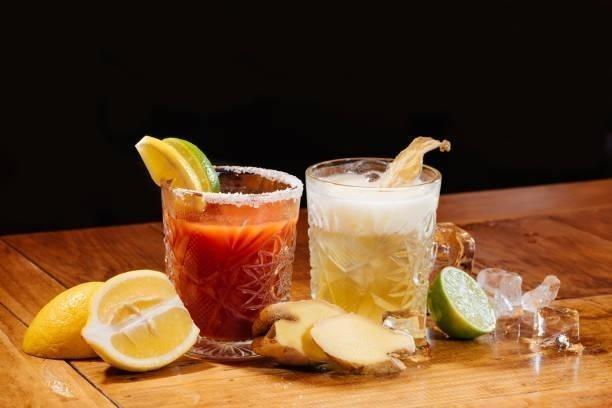glass-normal: (304, 153, 442, 349), (159, 163, 304, 347)
